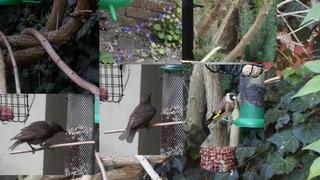goldfinch: (204, 91, 238, 127)
starling: (8, 120, 68, 154), (118, 91, 156, 144)
